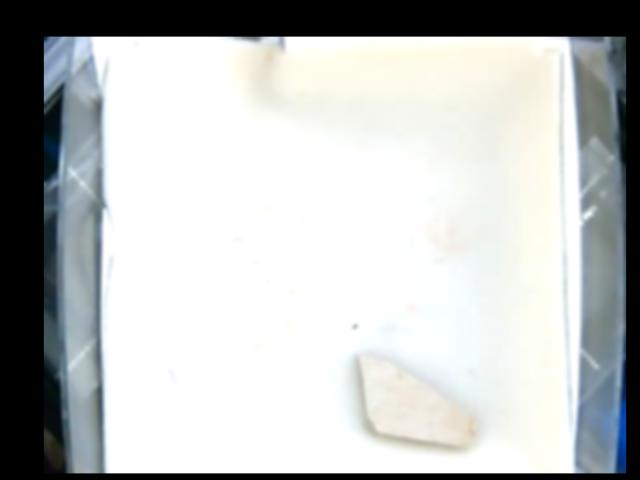China: (361, 352, 474, 445)
